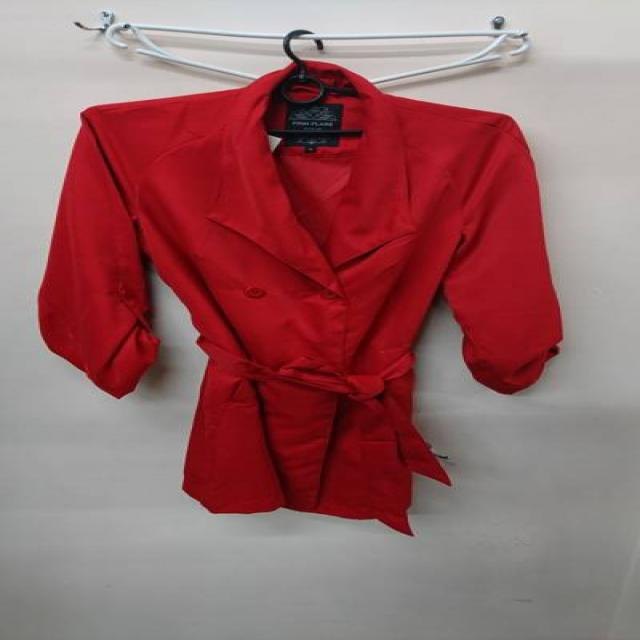Clothes -Biodegradable-: (36, 61, 567, 534)
